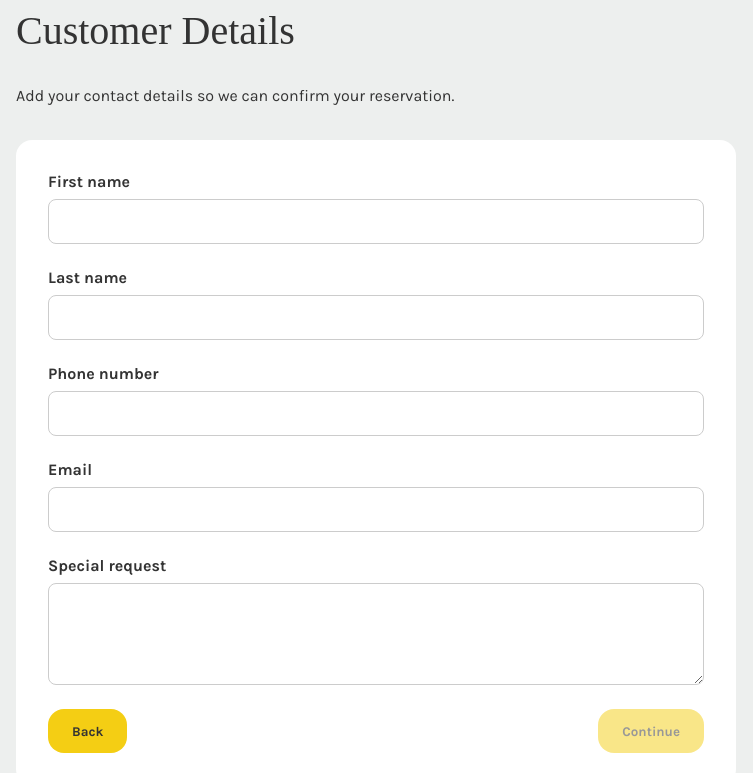
Test: CustomerDetailsPage › continue button becomes enabled when required fields are filled
The width and height of the screenshot is (753, 773).
In the field labelled "First name": (376, 222) [48,199,704,244], type "John"
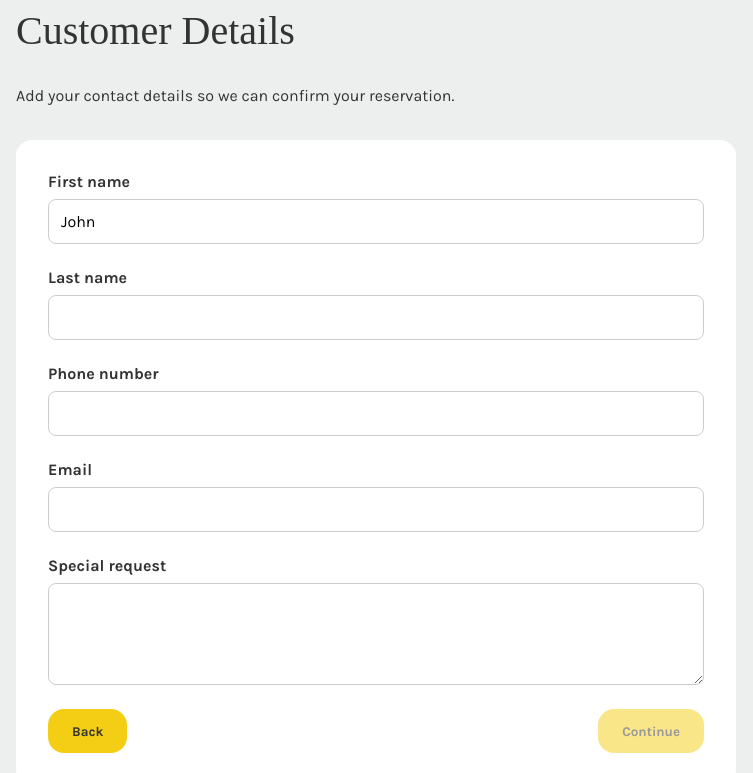
In the field labelled "Last name": (376, 318) [48,295,704,340], type "Doe"
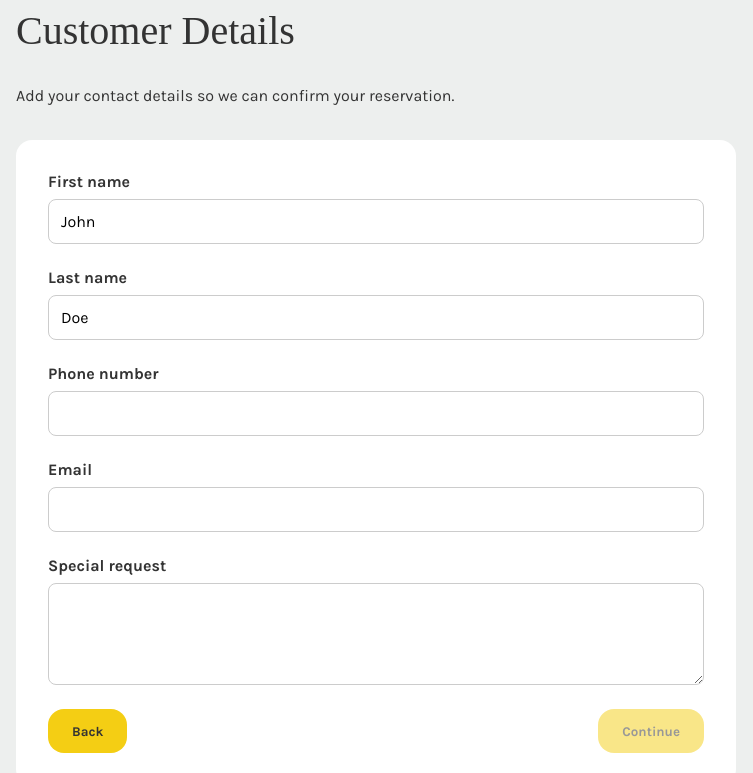
In the field labelled "Phone number": (376, 414) [48,391,704,436], type "123456789"
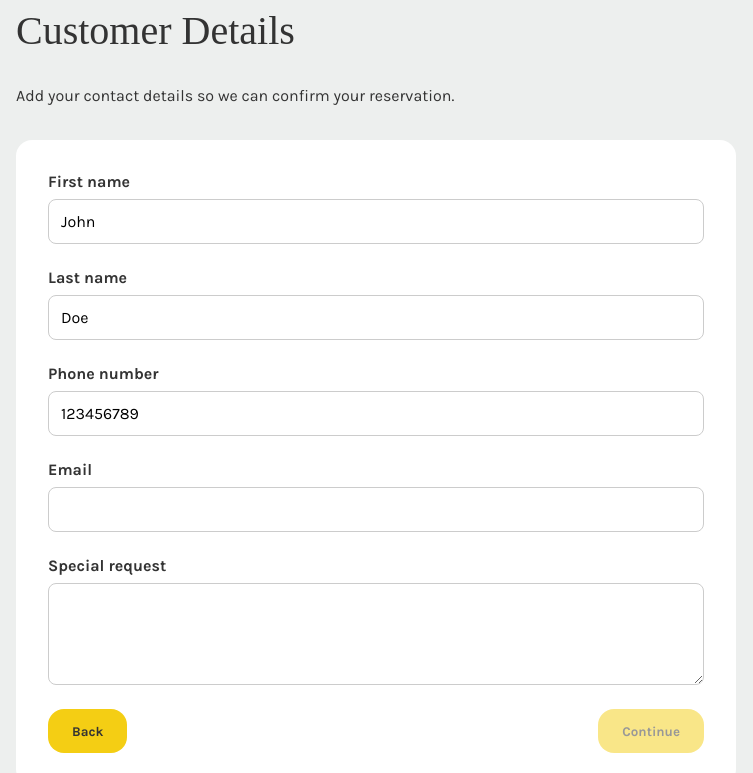
In the field labelled "Email": (376, 510) [48,487,704,532], type "john@example.com"
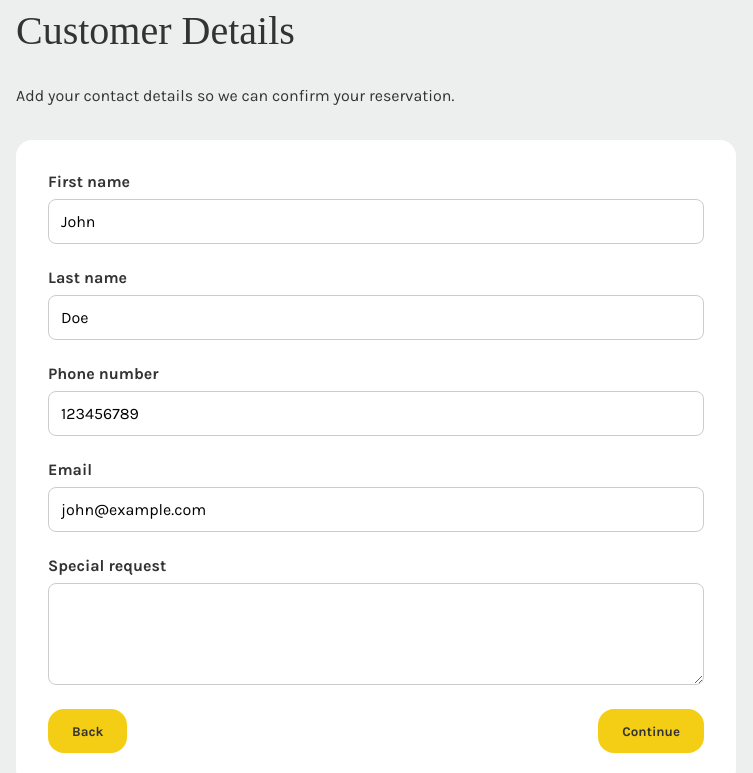
Check: the button "Continue" is enabled, box [598,709,704,753]
